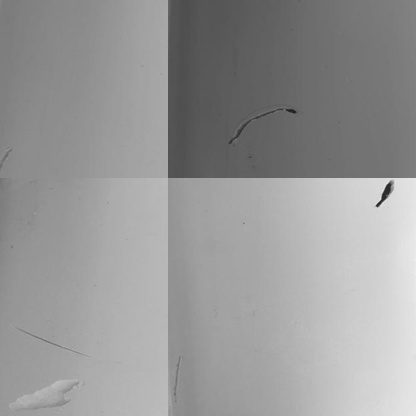fengxi: (222, 97, 301, 149)
kongdong: (373, 179, 397, 209)
sunshang: (7, 372, 83, 410), (13, 326, 91, 356)
